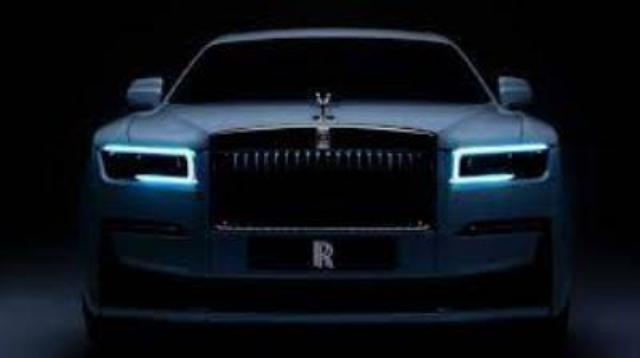rolls-royce: (80, 27, 574, 358)
